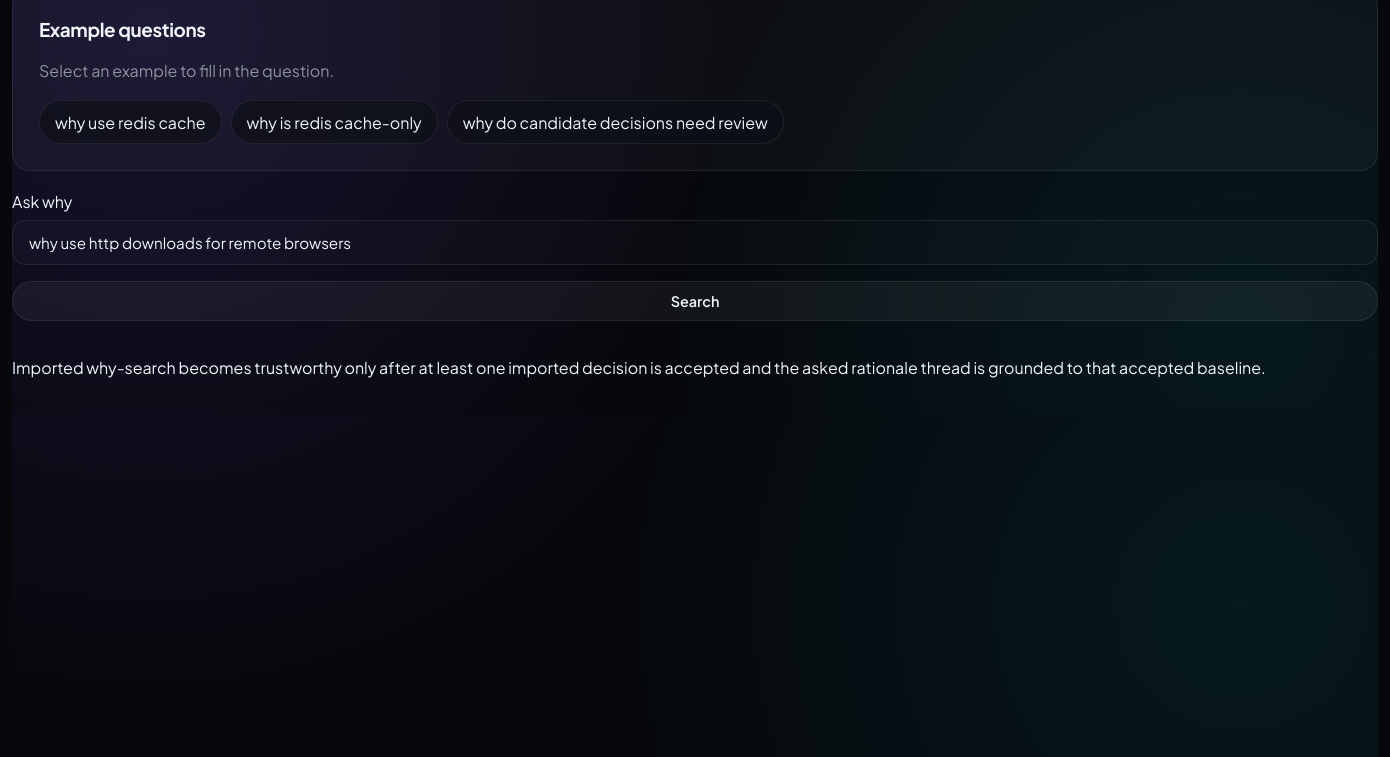
Test case: QueryForm › keeps focused imported ok answers free of supporting-context clutter
This screenshot has width=1390, height=757.
Click the button "Search": (695, 301) [12,281,1378,321]
(page scrolled)
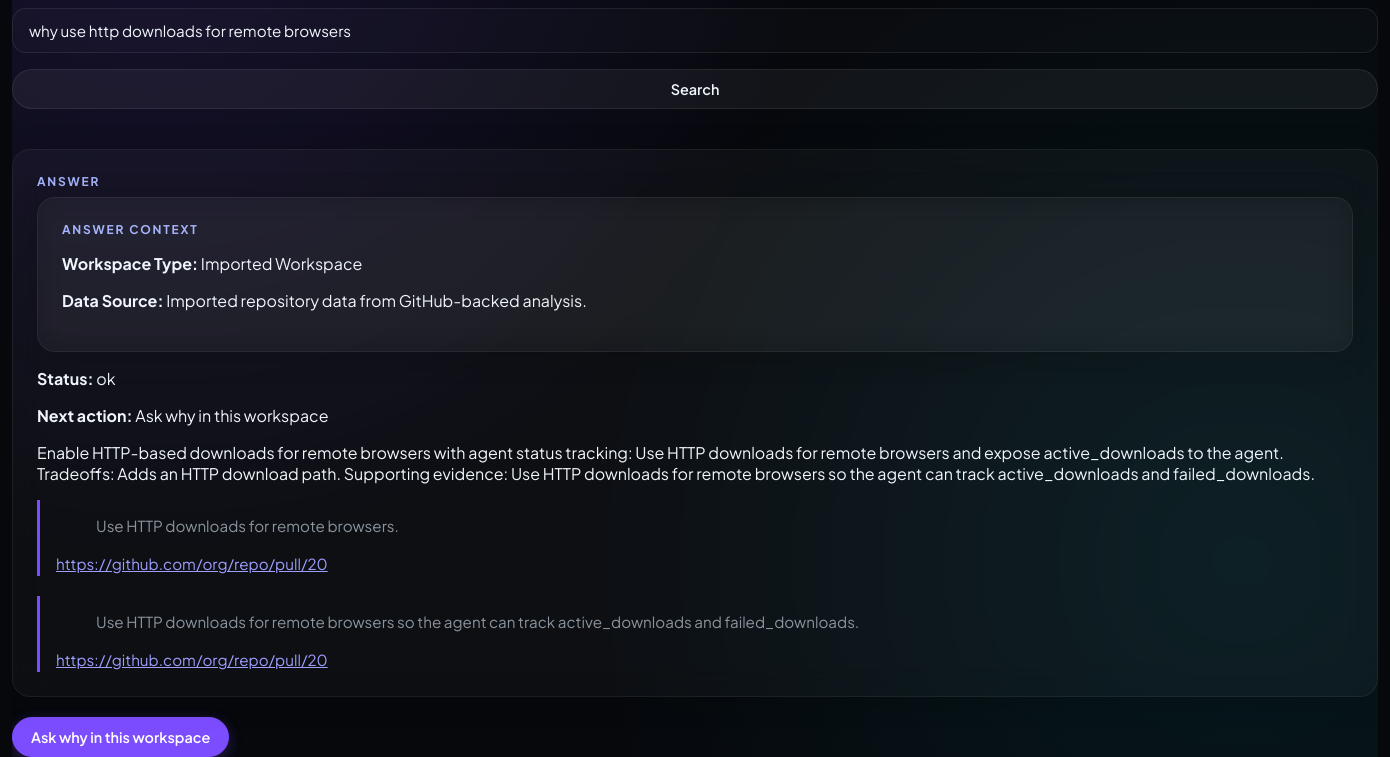
Check: the text "Enable HTTP-based downloads for remote browsers with agent status tracking:" is shown, box [37,442,1315,484]
